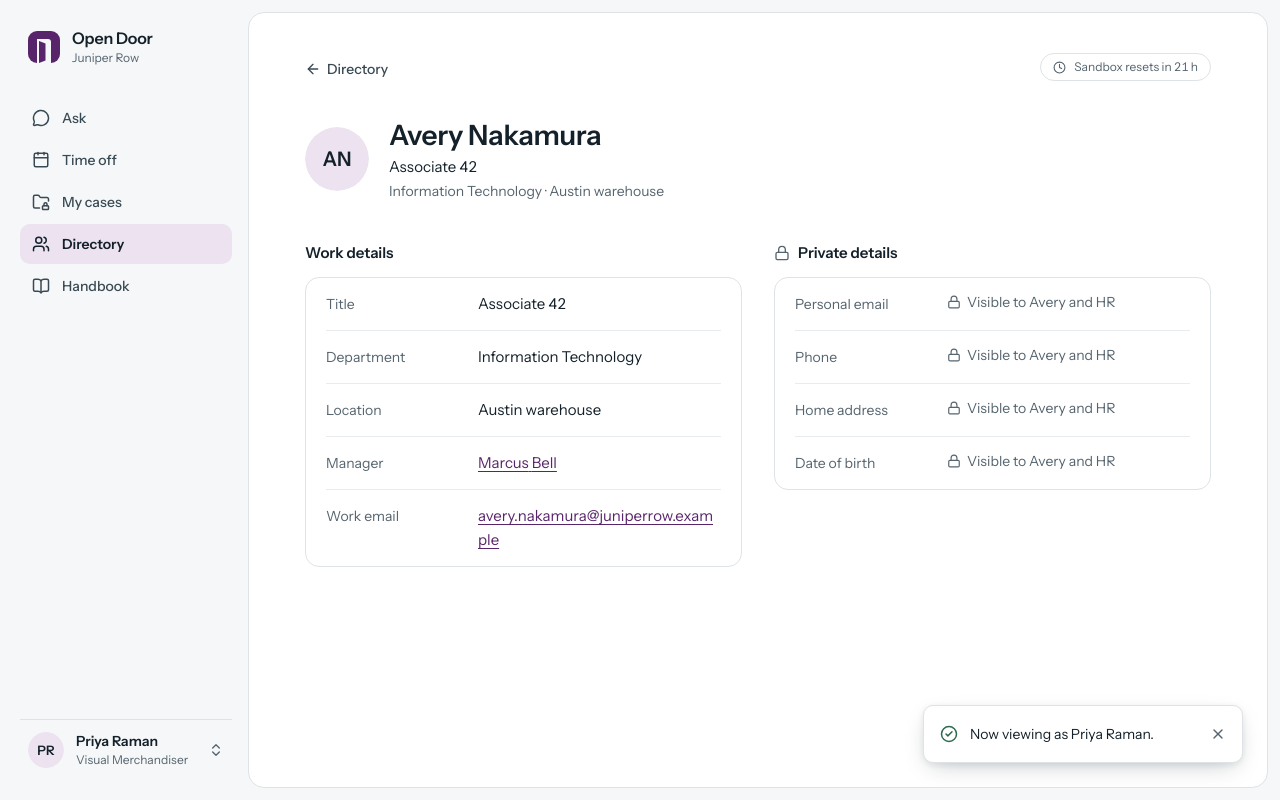
private details for everyone else › makes no private request over the whole page lifetime when Priya switches to Marcus
Click the button named "Switch persona" at (126,750), box [20, 719, 232, 780]
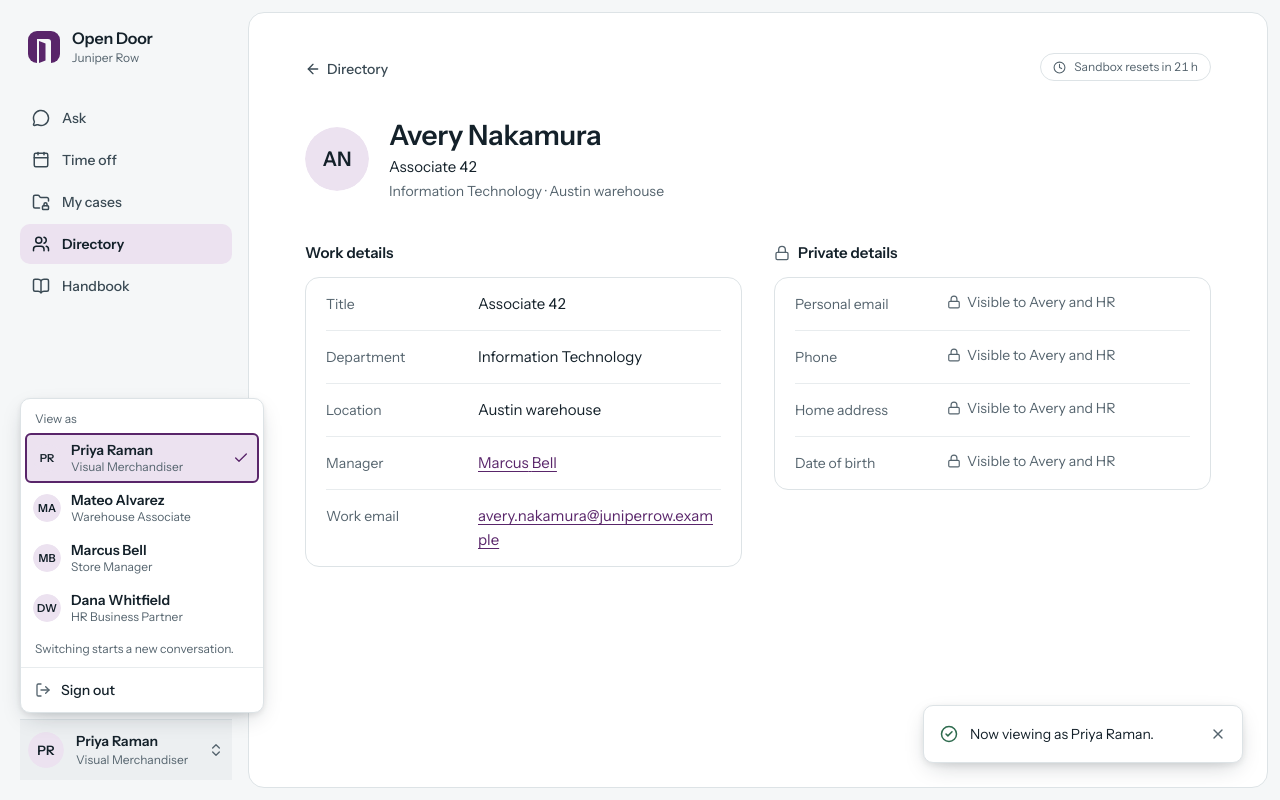
Click the menu item "MB Marcus Bell Store Manager" at (93,558), box [33, 541, 152, 574]
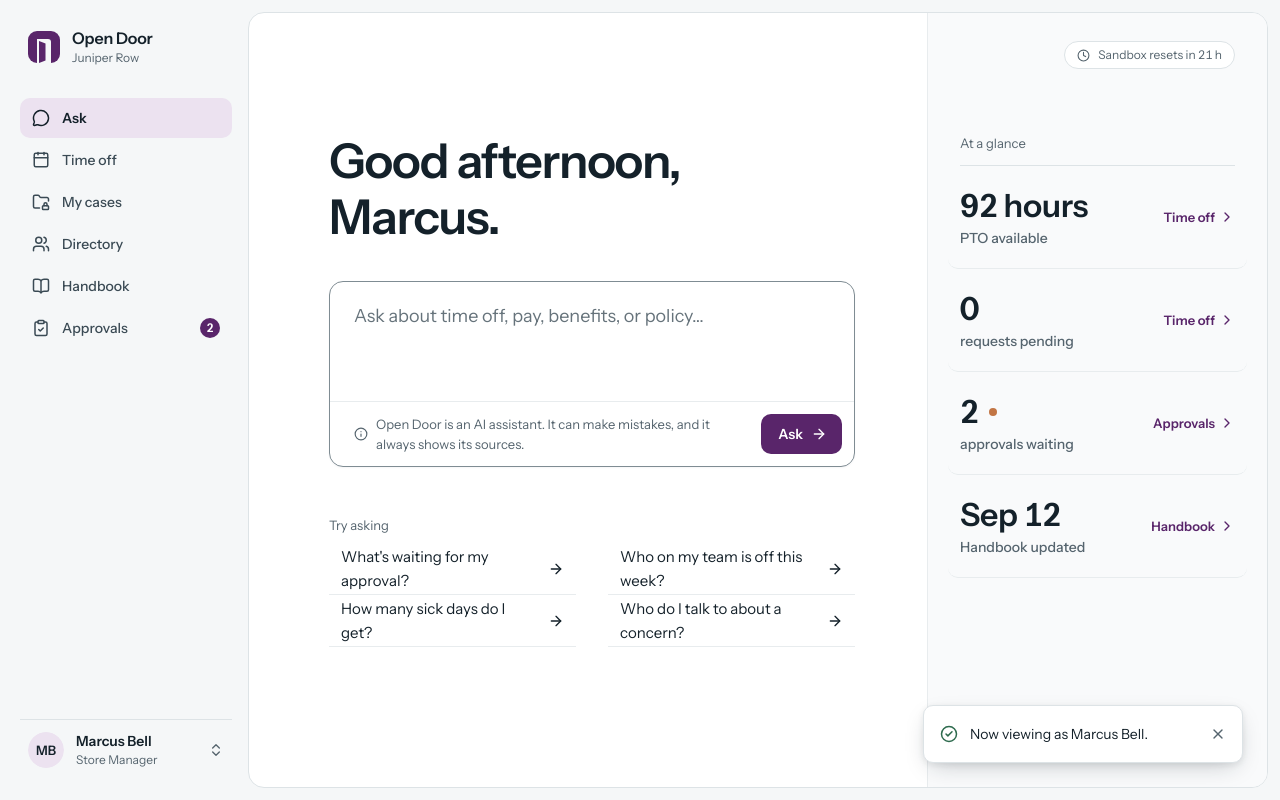
Expected: the heading "Good afternoon, Marcus." is shown, [329, 131, 681, 246]
